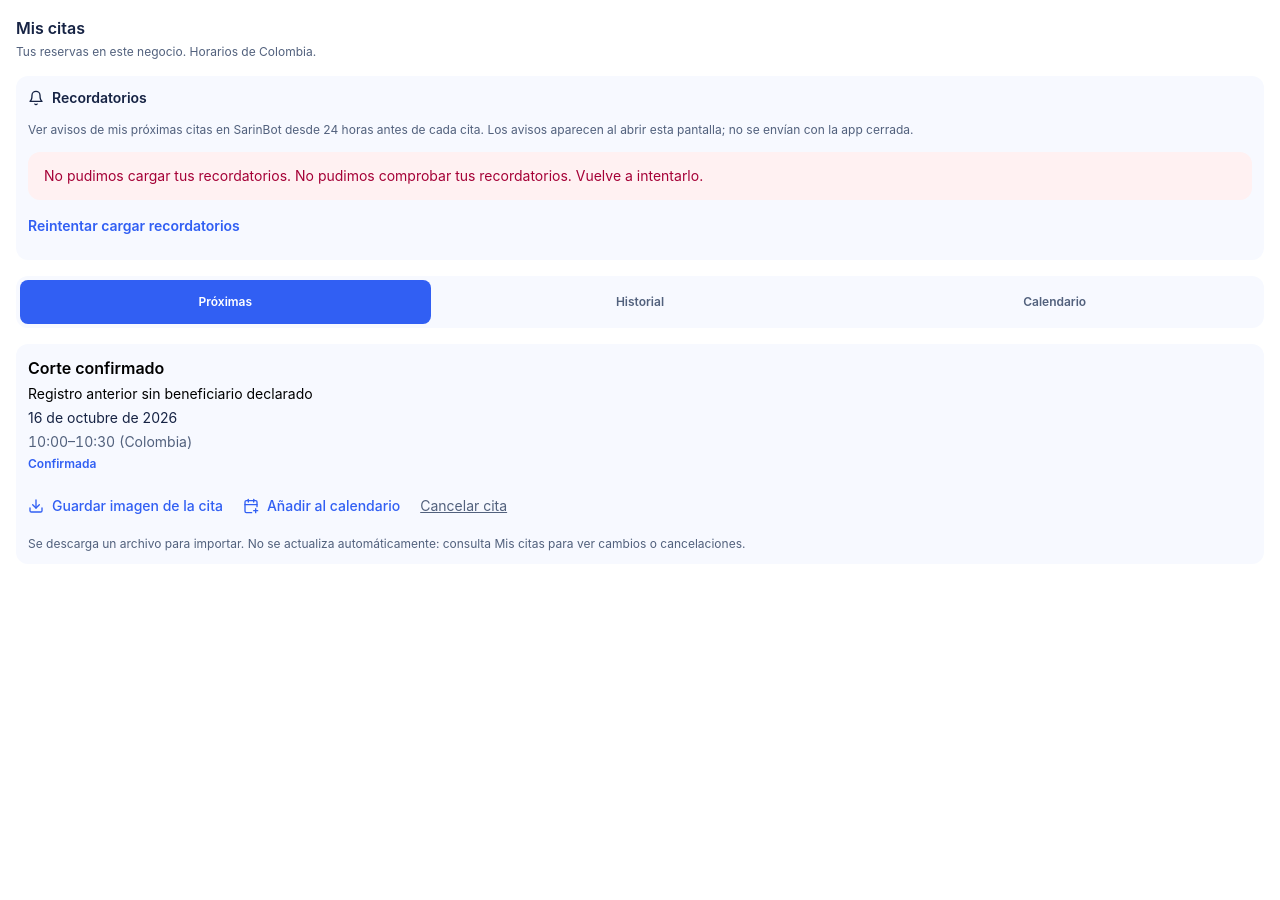
Test: the customer's appointments within one business › requires confirmation, blocks duplicate submissions, and moves the saved cancellation into history
The width and height of the screenshot is (1280, 900).
Step 1. Click the button "Cancelar cita" → (464, 506), box [420,484,507,528]
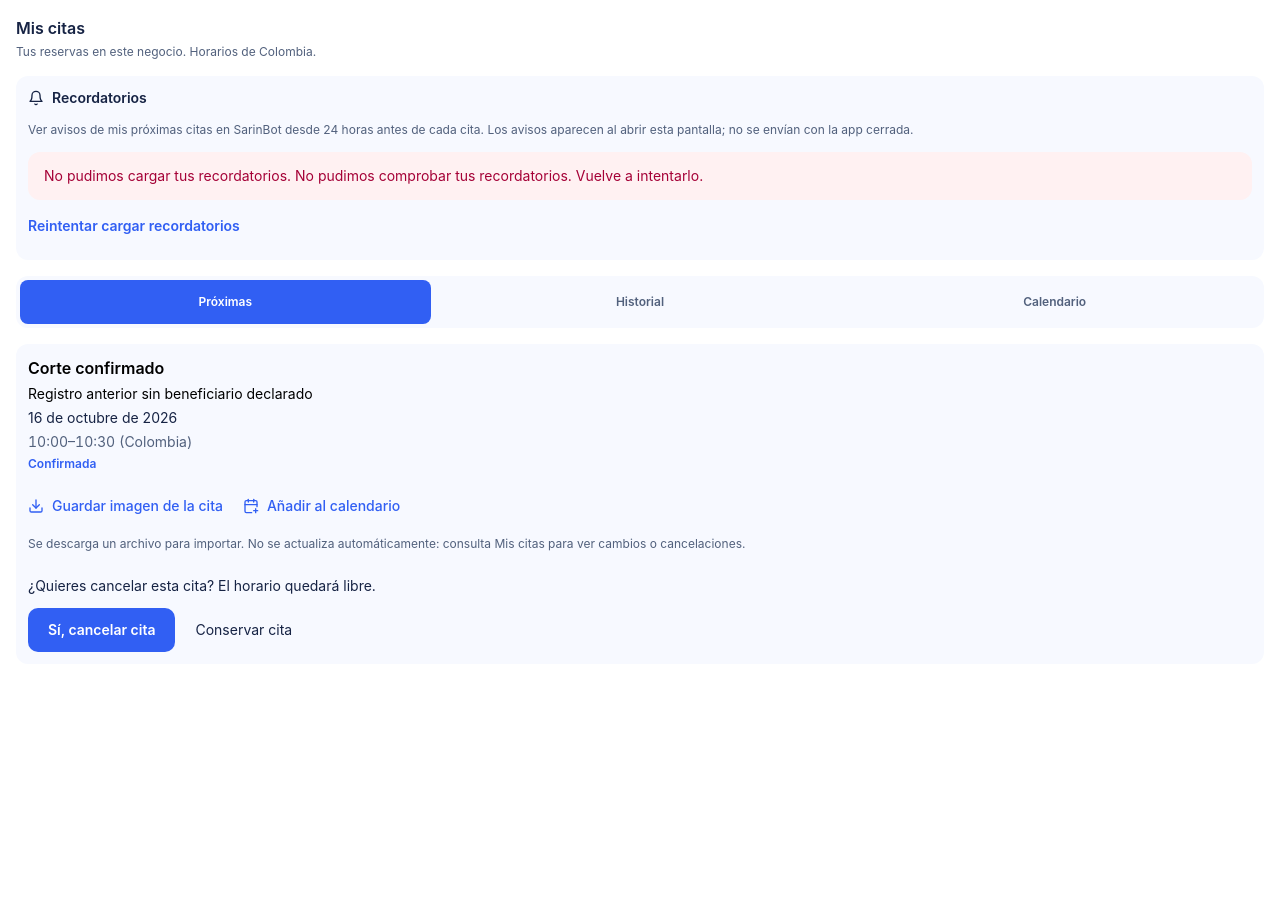
Step 2. Click the button "Sí, cancelar cita" → (102, 630), box [28,608,176,652]
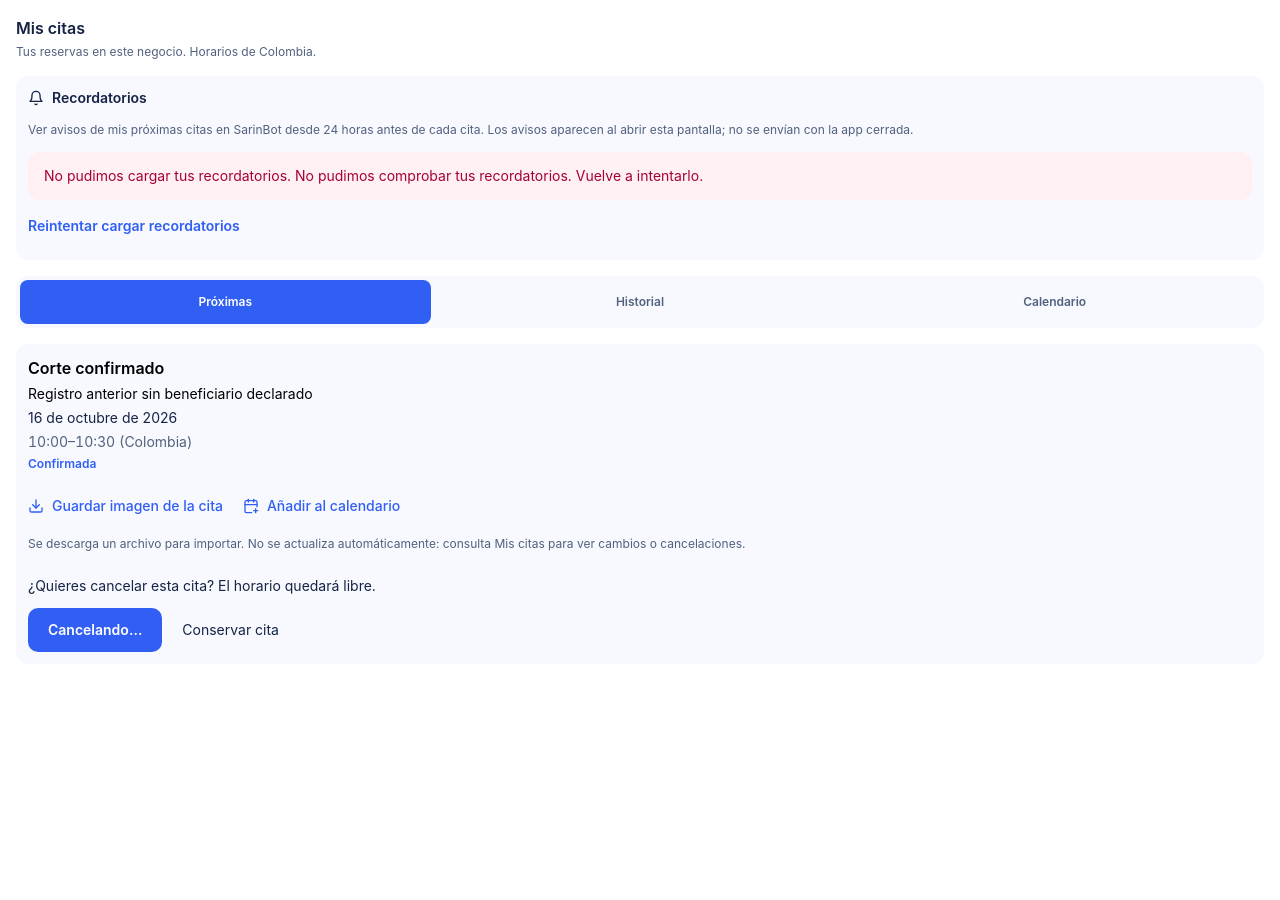
Expected: the button "Cancelando…" is disabled
Step 3. Click the button "Cancelando…" → (95, 630), box [28,608,162,652]
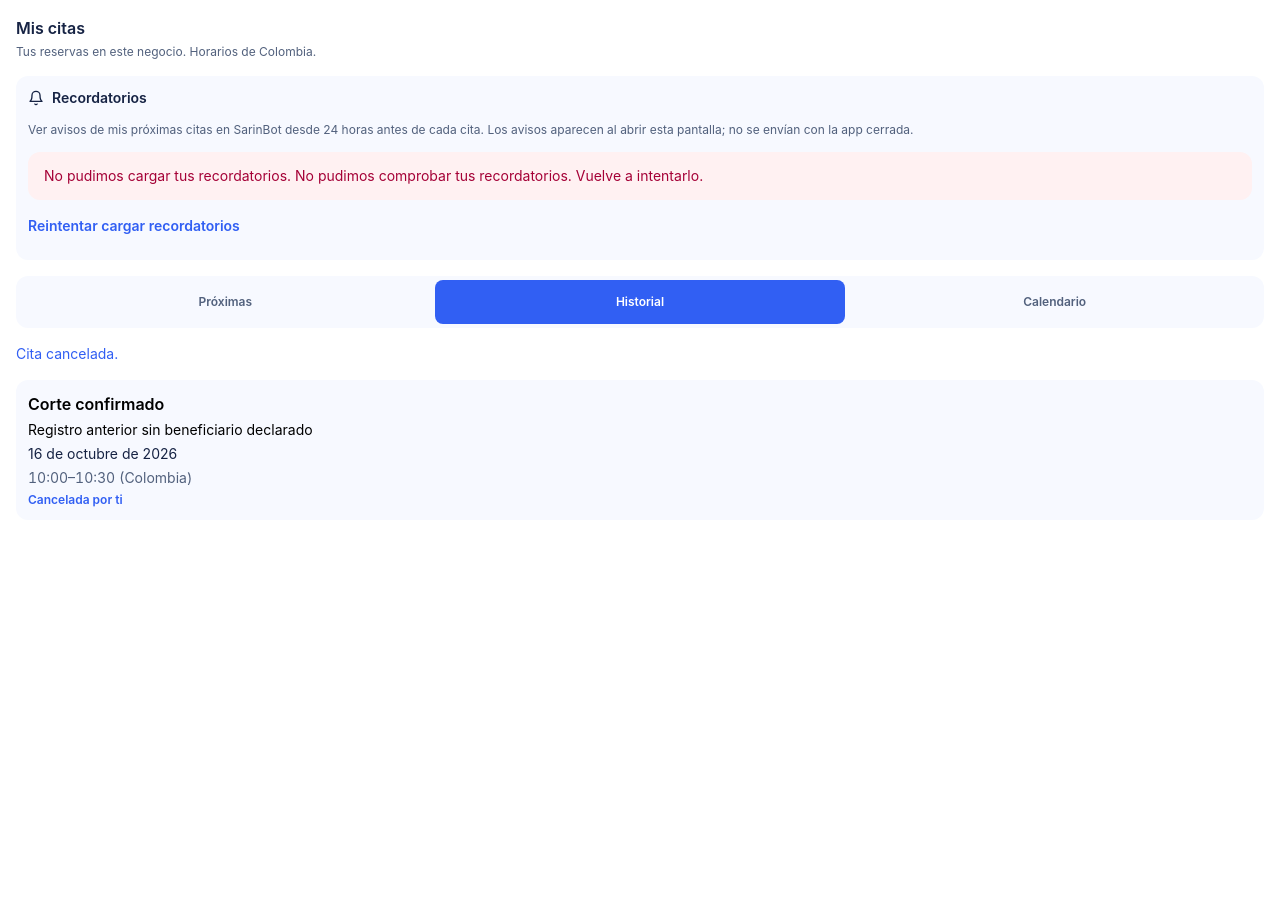
Expected: the text "Cita cancelada" is shown, [16,344,118,362]
Expected: the text "Cancelada por ti" is shown, [28,492,123,506]
